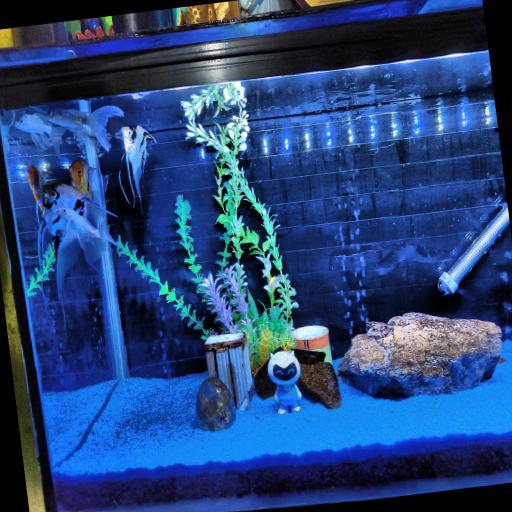Fish: (43, 183, 114, 295), (43, 106, 124, 150), (57, 208, 116, 265), (43, 183, 115, 223), (122, 126, 155, 199), (14, 113, 66, 157), (69, 161, 99, 199), (69, 160, 93, 198), (26, 165, 45, 211)
